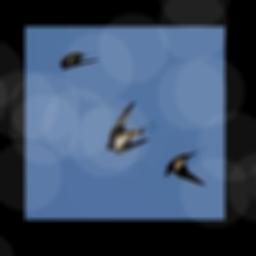Swallow: (106, 103, 159, 155), (165, 147, 206, 186), (60, 52, 100, 70)
